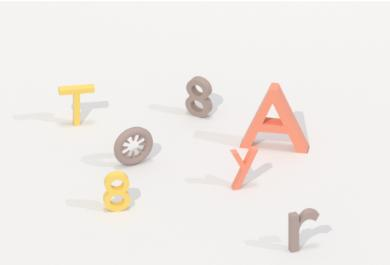0-TronLo: (110, 123, 158, 170)
8: (181, 73, 215, 121), (101, 169, 133, 217)
A: (242, 80, 312, 157)
T: (55, 80, 99, 130)
r: (285, 204, 321, 256)
y: (227, 144, 261, 196)
